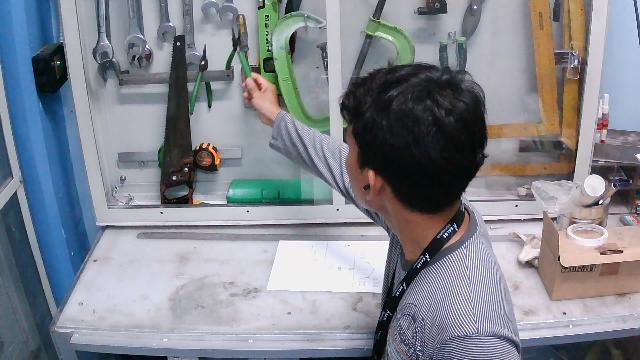tang_cucut_lancip_1: (221, 24, 257, 99)
